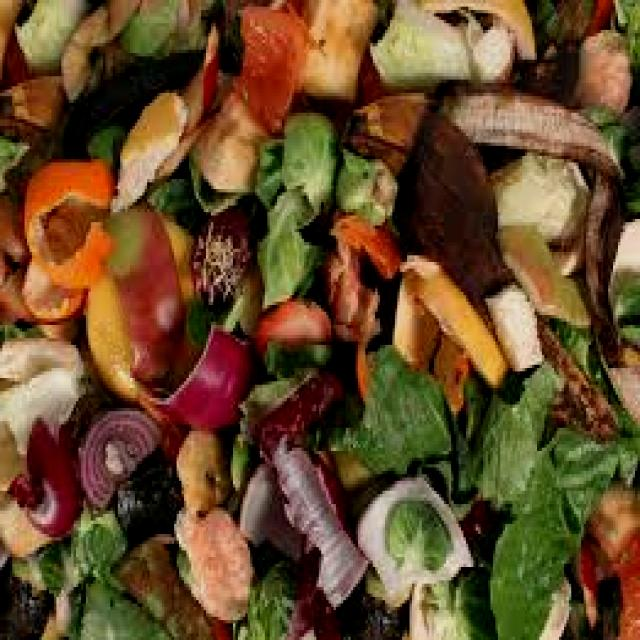wet: (34, 38, 625, 560)
